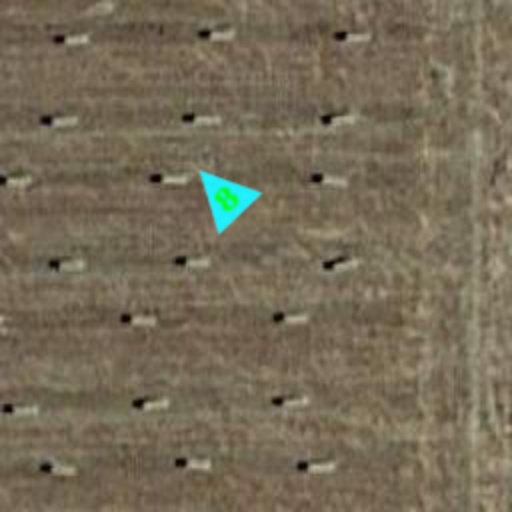triangle: (176, 148, 264, 236)
